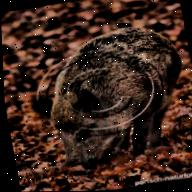boar: (31, 24, 192, 178)
